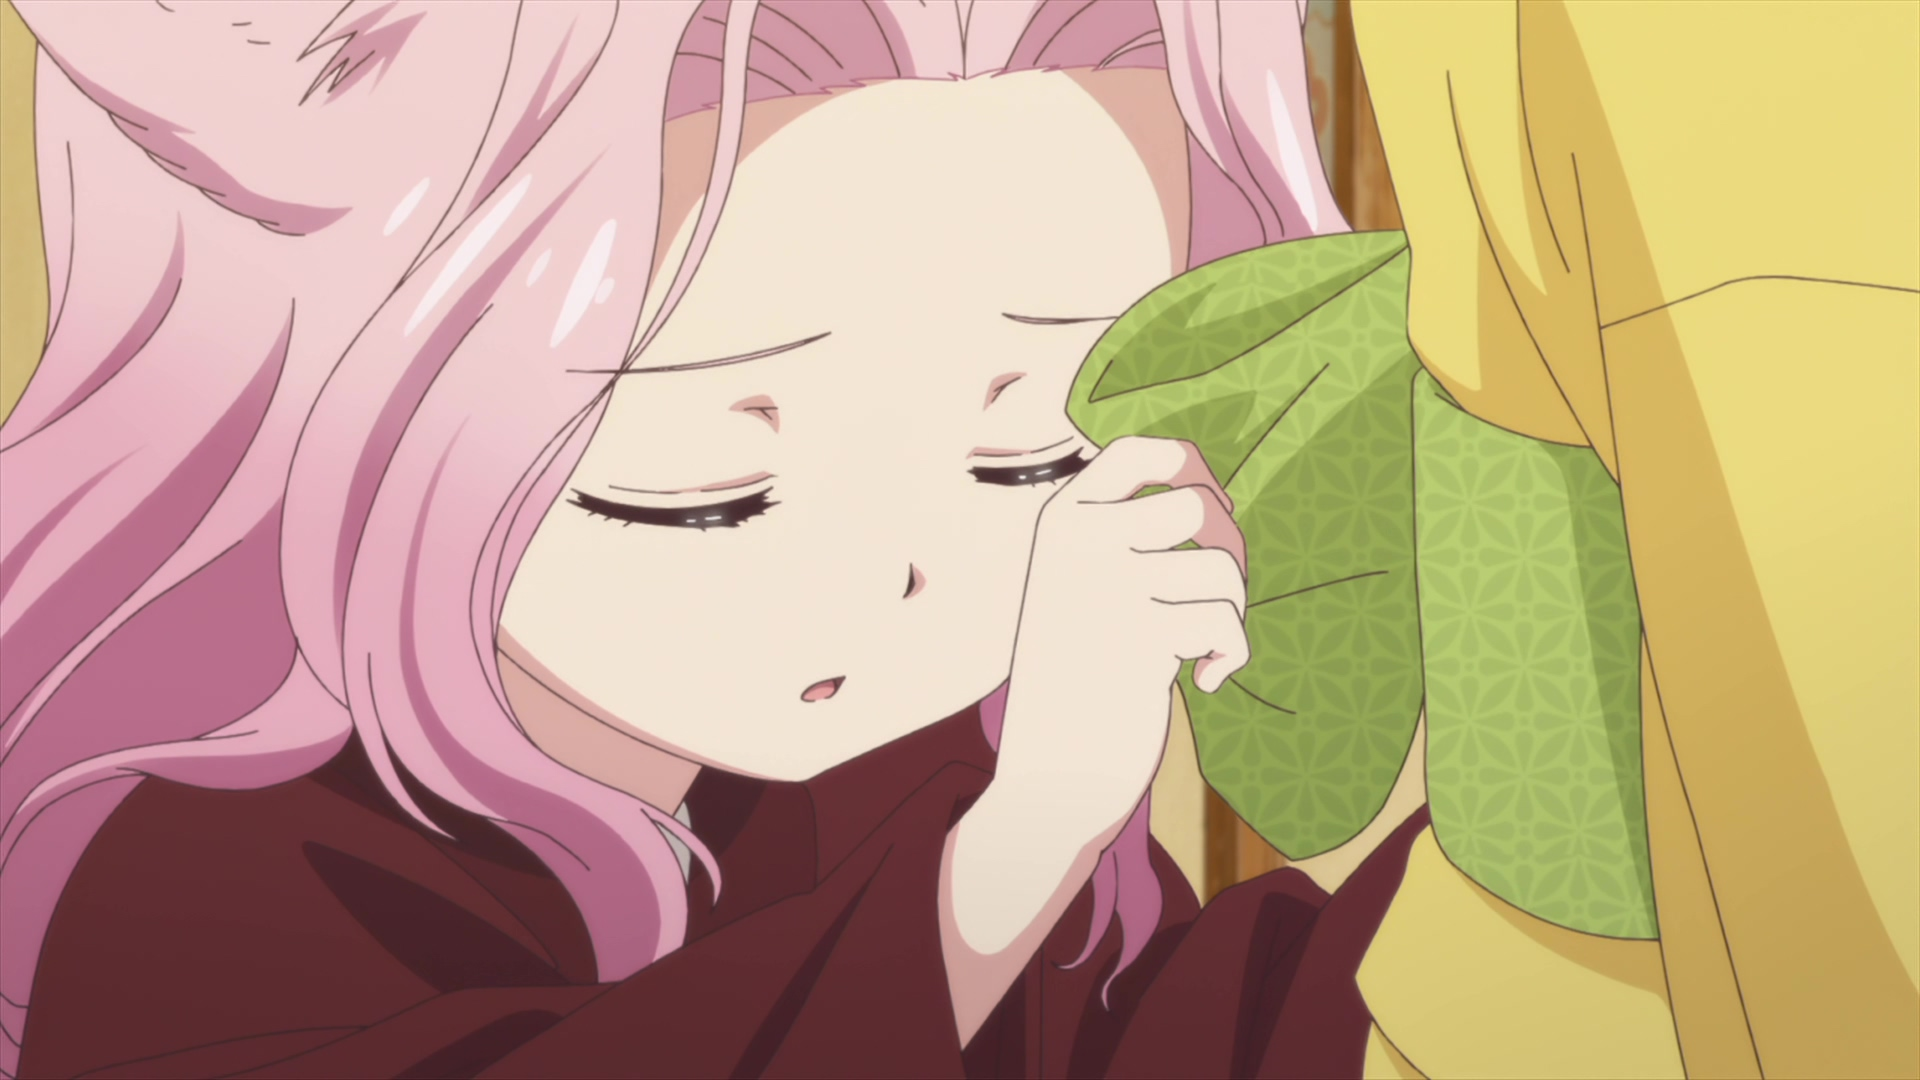莲: (1, 1, 1428, 1080)
